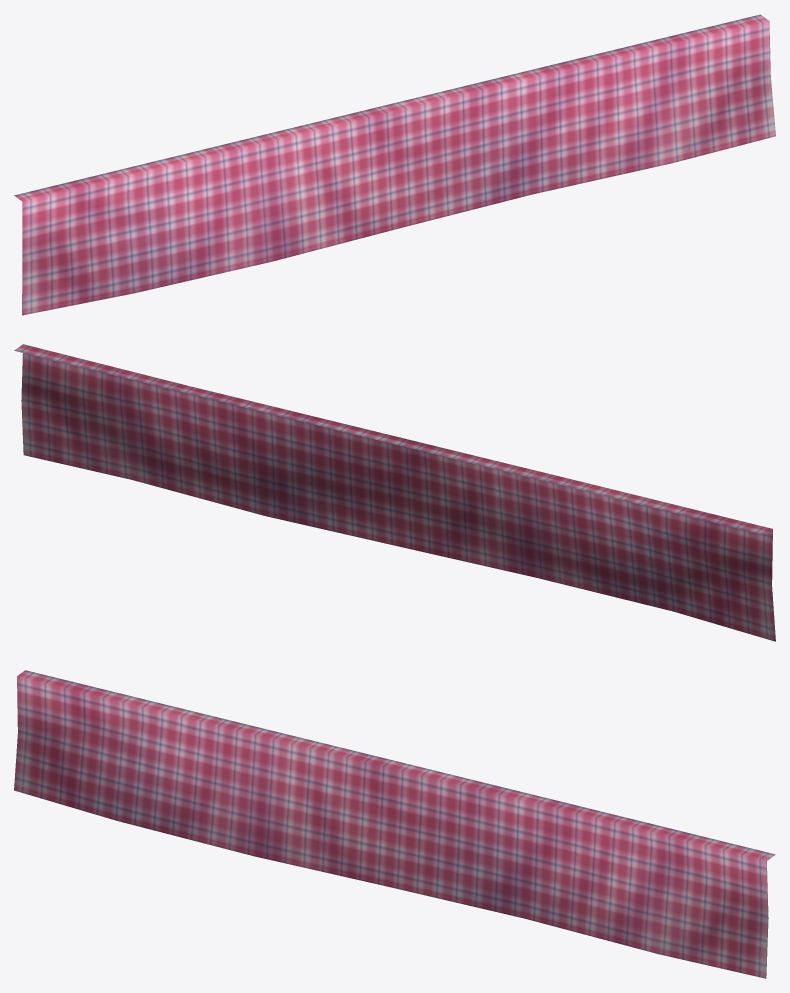
The model's file is jsf_BlindfoldCloth_2P_s02_02.fbx.
3 renders of one model, top to bottom at view 1: azimuth 30°, elevation 25°; view 2: azimuth 150°, elevation 25°; view 3: azimuth 330°, elevation 25°, orthographic.
Parts seen in each view (by area): view 1: jsf_BlindfoldCloth_2P_s02_02; view 2: jsf_BlindfoldCloth_2P_s02_02; view 3: jsf_BlindfoldCloth_2P_s02_02.
Part boxes in pixels (x1,y1,x2,y2): jsf_BlindfoldCloth_2P_s02_02: [14, 14, 775, 315]; jsf_BlindfoldCloth_2P_s02_02: [14, 344, 775, 641]; jsf_BlindfoldCloth_2P_s02_02: [14, 670, 775, 978].
Size of the model in its own units: 207 by 30 by 7.76.
